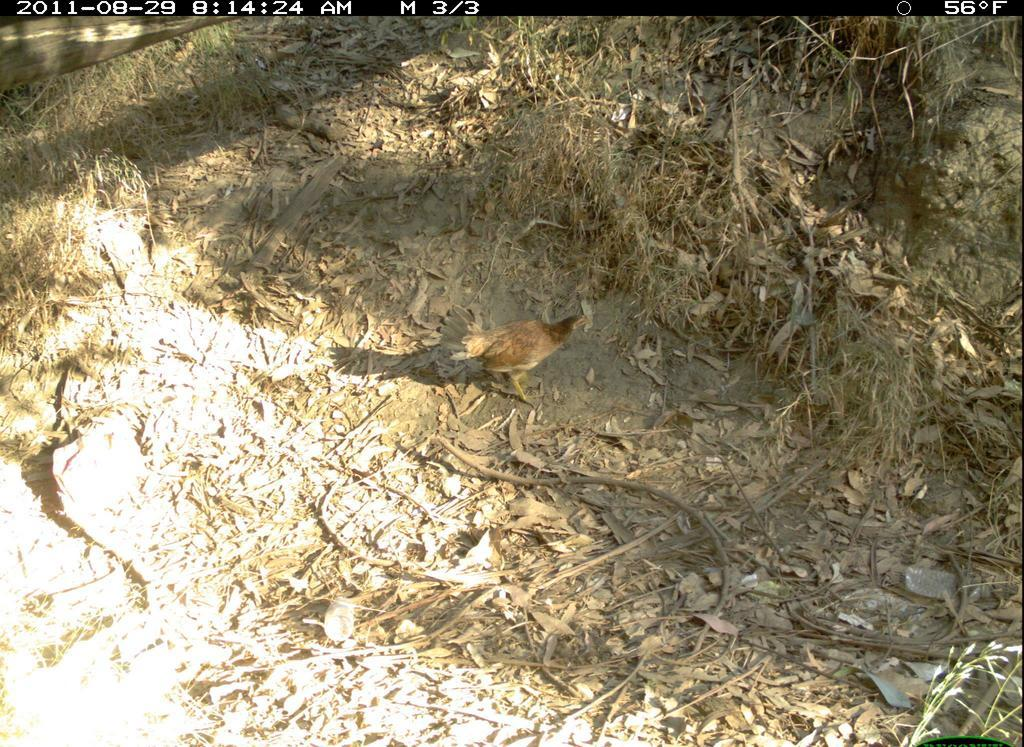bird: (431, 304, 597, 417)
